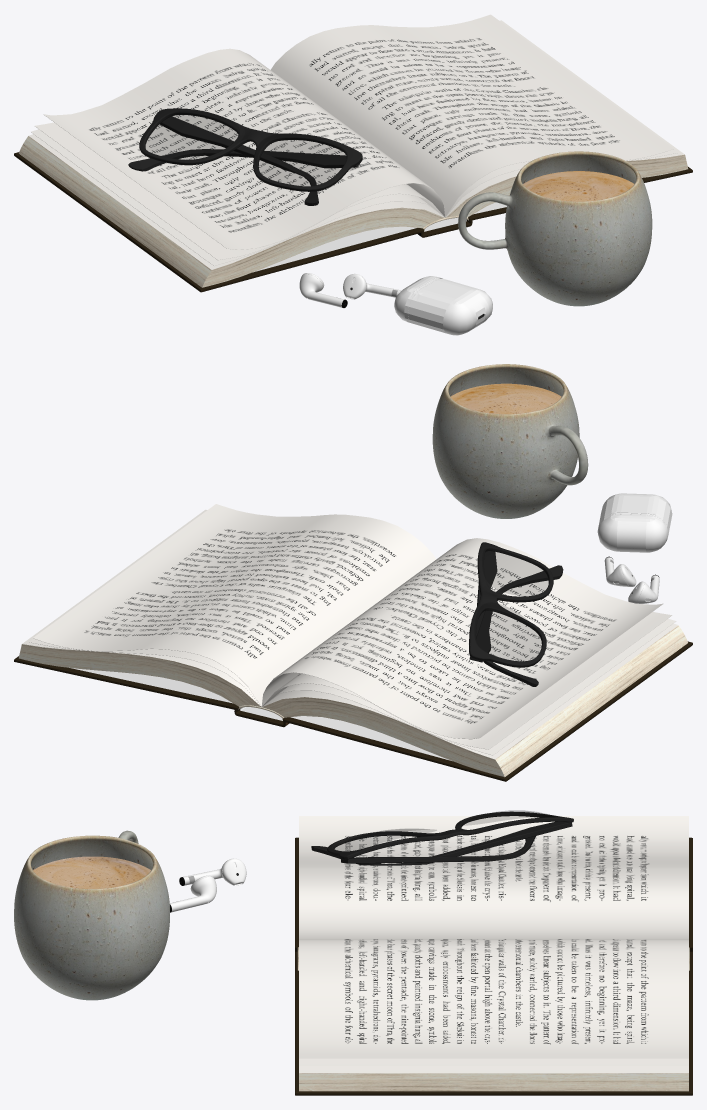
The model's file is Books.glb.
The picture shows the model from 3 angles, top to bottom: view 1: azimuth 30°, elevation 25°; view 2: azimuth 150°, elevation 25°; view 3: azimuth 270°, elevation 25°; orthographic projection. The views are drawn at different scales.
Parts seen in each view (by area): view 1: Open book 4, Line006, Sphere013, Aorpod, Plane083, Sphere042, Box037, Box038, AirpodL, AirpodR; view 2: Open book 4, Line006, Sphere013, Aorpod, Plane083, Sphere042, Box038, Box037, AirpodR; view 3: Open book 4, Line006, Sphere042, Plane083, Sphere013, Box038, Box037, AirpodL, AirpodR.
Boxes of the visible parts, x1,y1,x2,y2 form: Open book 4: (14,14,692,292); Line006: (458,151,652,306); Sphere013: (146,111,346,185); Aorpod: (394,276,492,335); Plane083: (139,108,362,191); Sphere042: (523,171,634,201); Box037: (128,149,362,171); Box038: (159,116,318,205); AirpodL: (299,273,347,307); AirpodR: (343,273,401,299); Open book 4: (14,504,692,781); Line006: (432,364,588,518); Sphere013: (475,548,548,660); Aorpod: (597,493,672,552); Plane083: (469,542,553,667); Sphere042: (451,383,561,414); Box038: (469,565,563,662); Box037: (476,551,538,686); AirpodR: (604,556,636,586); Open book 4: (295,816,692,1095); Line006: (14,830,169,1000); Sphere042: (33,856,150,888); Plane083: (327,811,573,859); Sphere013: (334,810,554,850); Box038: (311,821,572,865); Box037: (341,836,535,863); AirpodL: (179,858,246,885); AirpodR: (169,875,216,912).
Bounding box in the file's own units: 0.3499 × 0.0799 × 0.3931.
23 materials, 7 textured.
